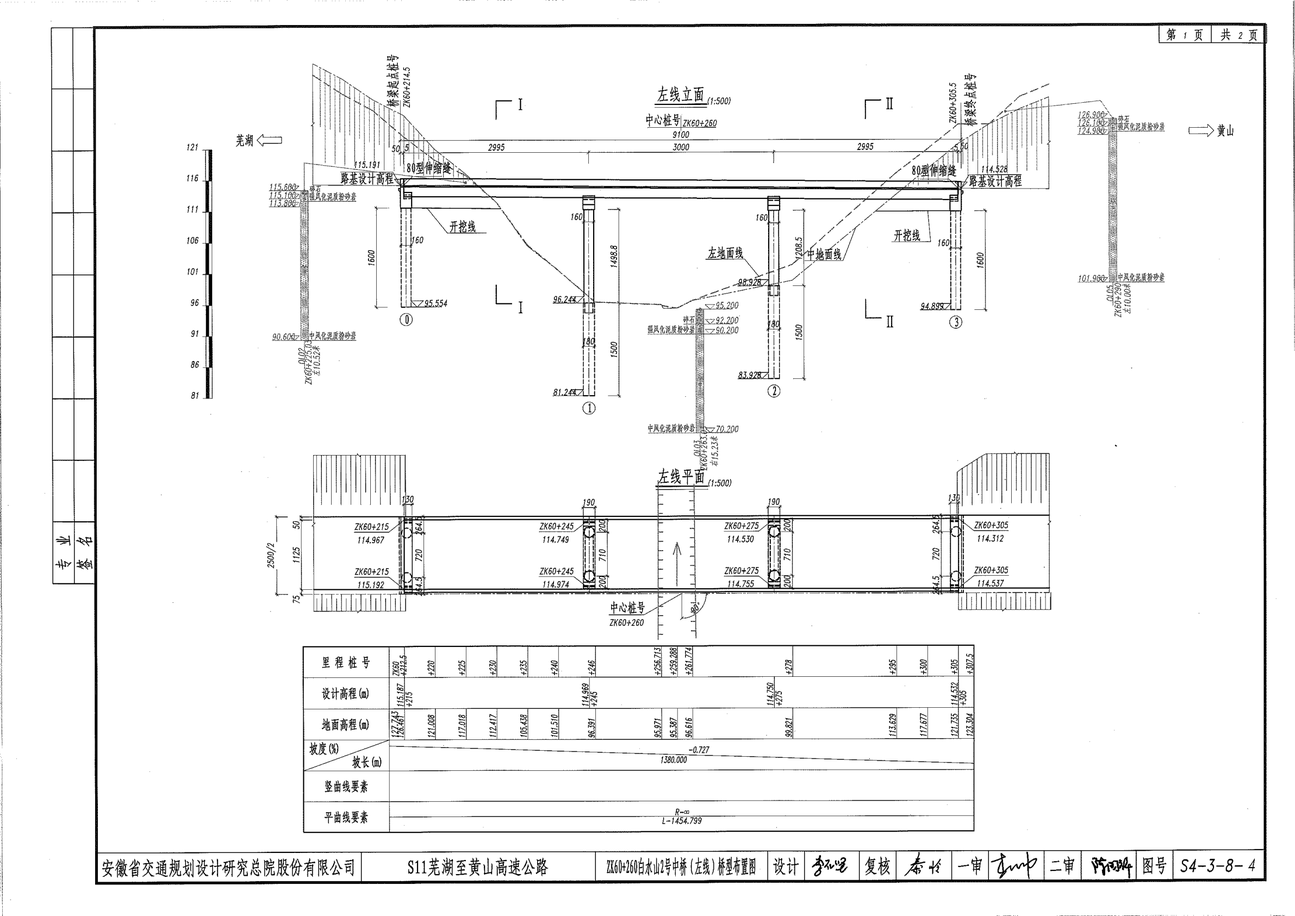A: (169, 73, 1233, 404)
